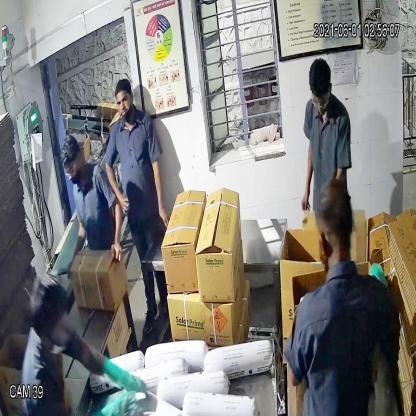goggles: (310, 86, 332, 112), (61, 155, 82, 180)
